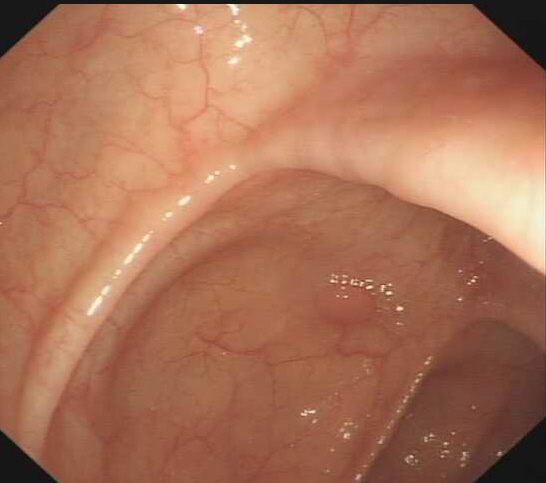adenoma: (312, 279, 376, 326)
